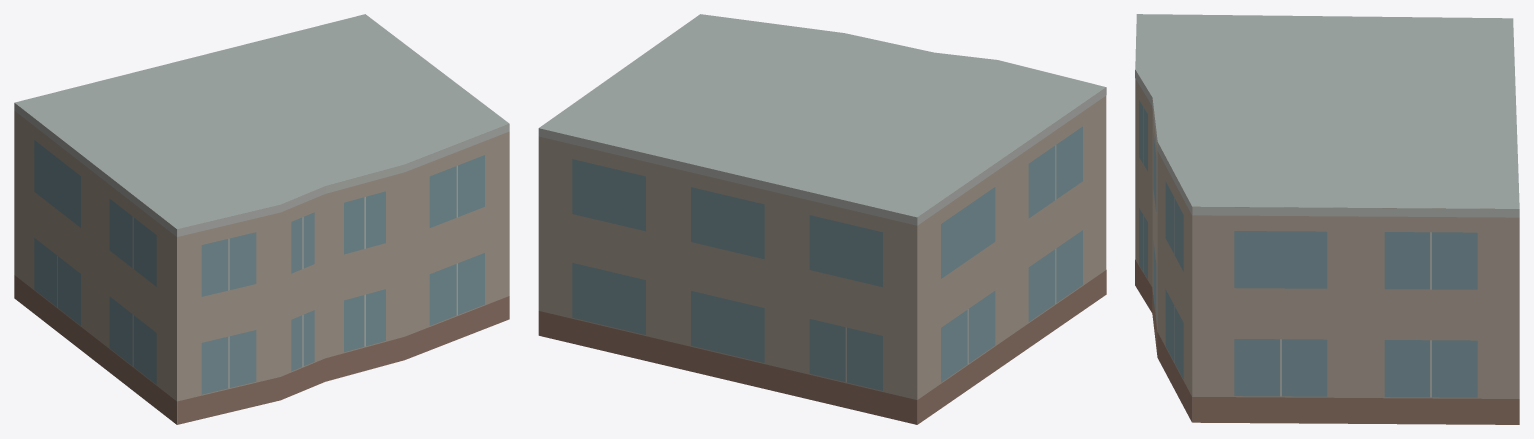
File: survey-upis-32682304.glb
3 renders of one model, left to right at view 1: azimuth 30°, elevation 25°; view 2: azimuth 150°, elevation 25°; view 3: azimuth 270°, elevation 25°, orthographic. The views are drawn at different scales.
Parts seen in each view (by area): view 1: survey-upis-32682304.tmp; view 2: survey-upis-32682304.tmp; view 3: survey-upis-32682304.tmp.
Part boxes in pixels (x1,y1,x2,y2): survey-upis-32682304.tmp: (14,14,509,424); survey-upis-32682304.tmp: (538,14,1106,424); survey-upis-32682304.tmp: (1135,14,1519,424).
Size of the model in its own units: 11.82 by 6.1 by 9.86.
